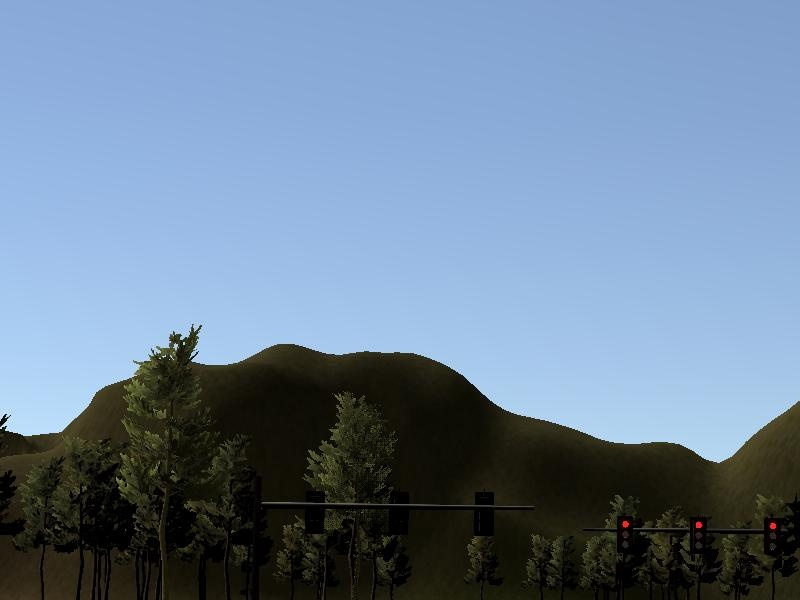red: (617, 515, 634, 555), (691, 517, 708, 557), (765, 518, 782, 558)
